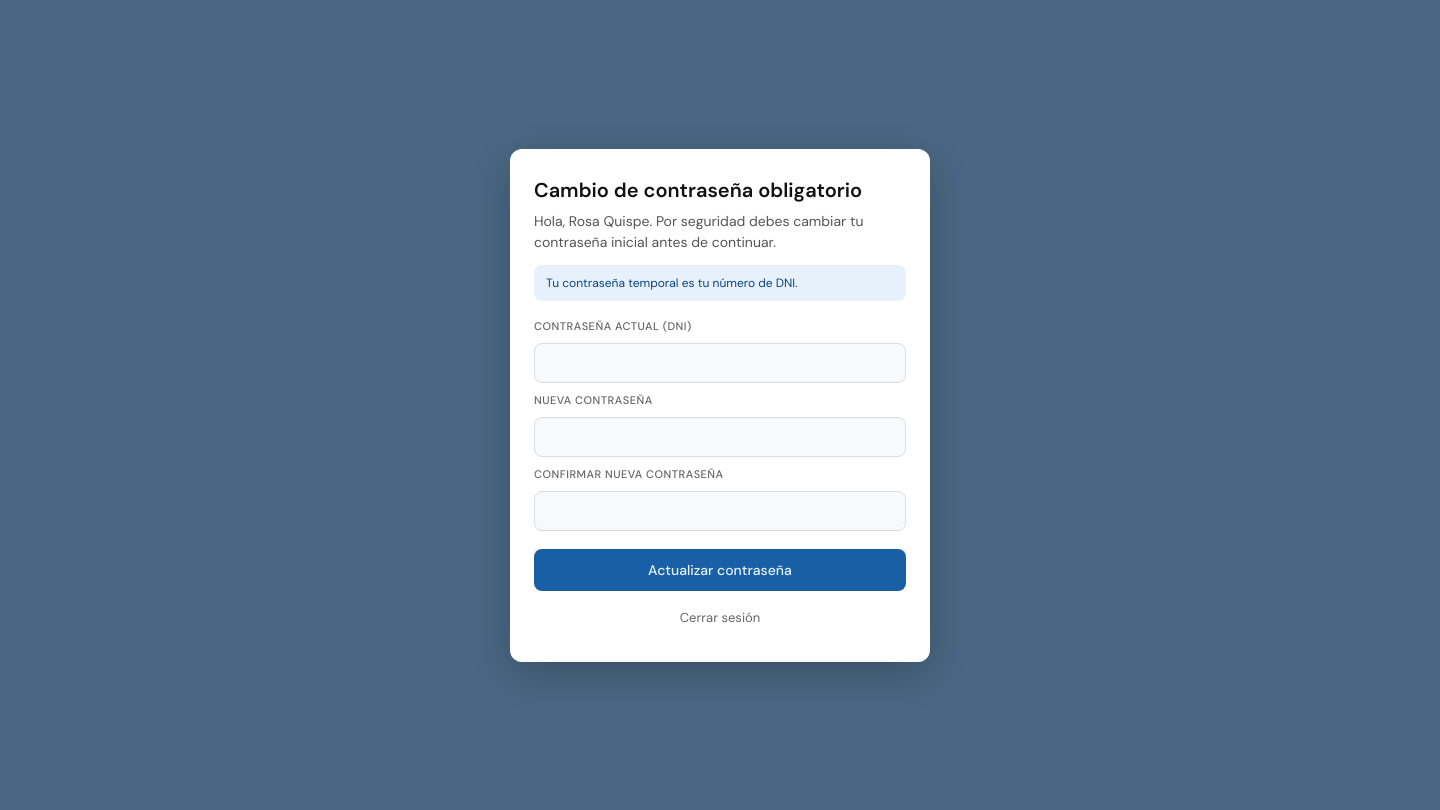
Test: CambioPasswordPrimerIngreso (RF01) › rechaza una nueva contraseña de menos de 8 caracteres
Type "12345678" into the 1st password field at (720, 362), box [534,342,906,382]
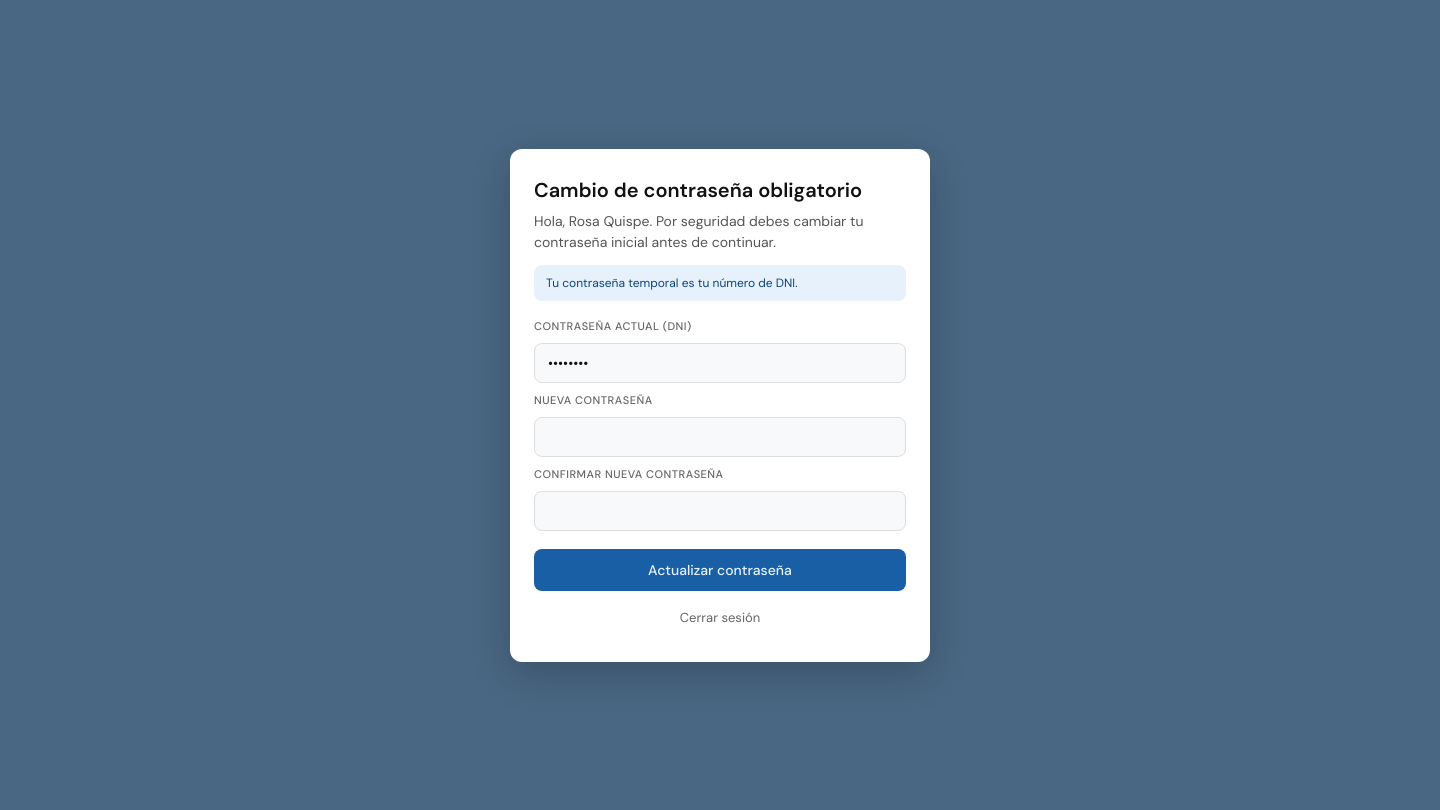
Type "corta" into the 2nd password field at (720, 436), box [534,416,906,456]
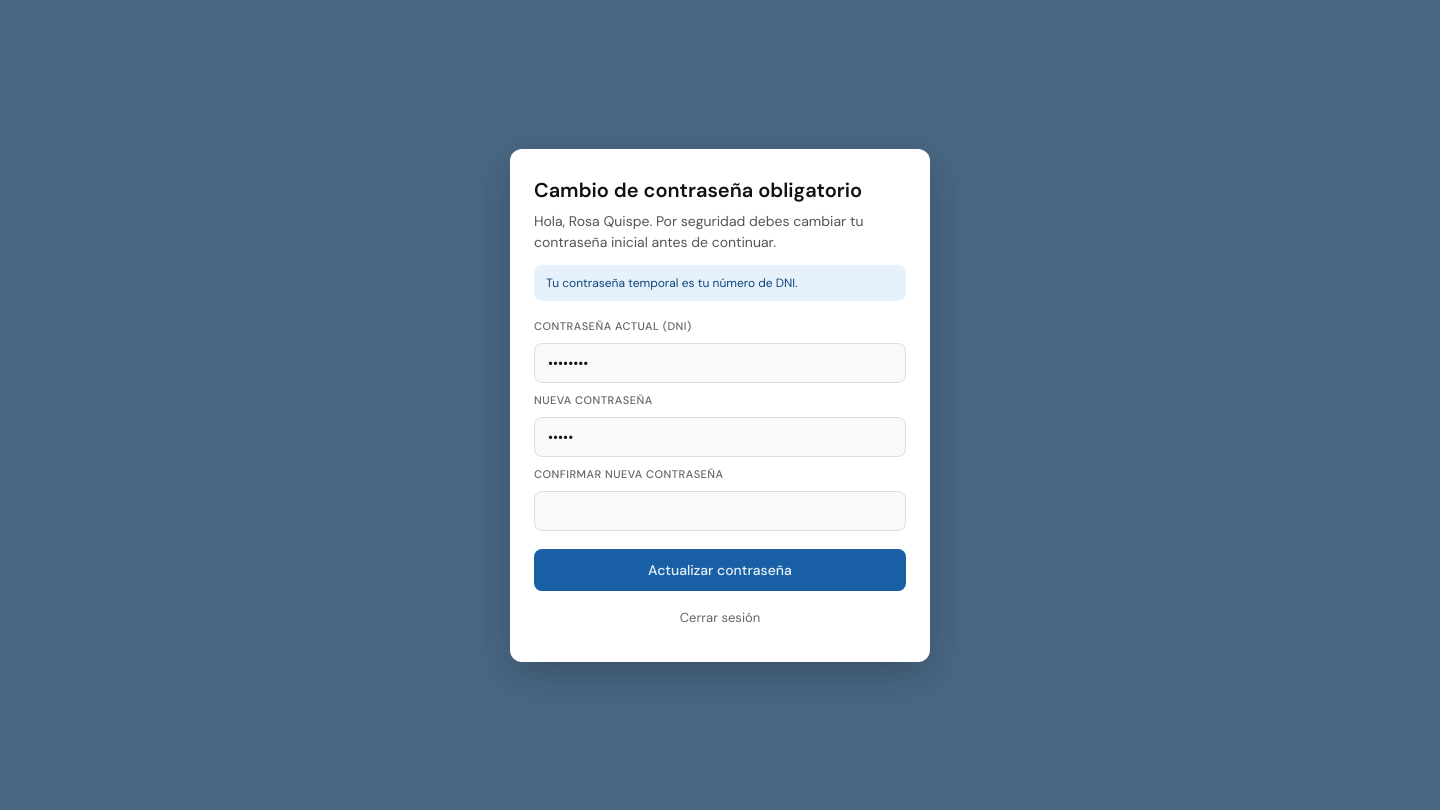
Type "corta" into the 3rd password field at (720, 510), box [534,490,906,530]
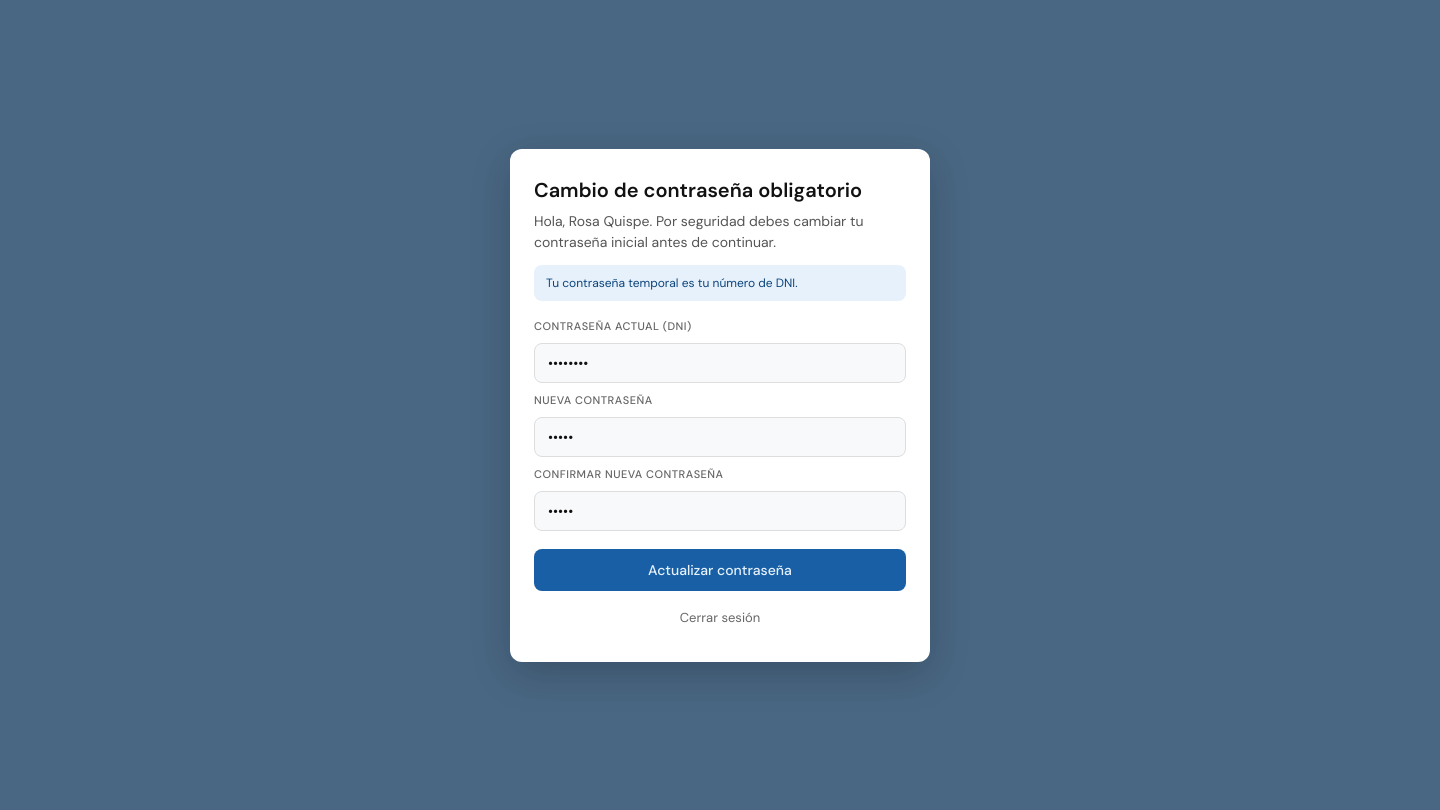
Click the button "Actualizar contraseña" at (720, 570), box [534,548,906,590]
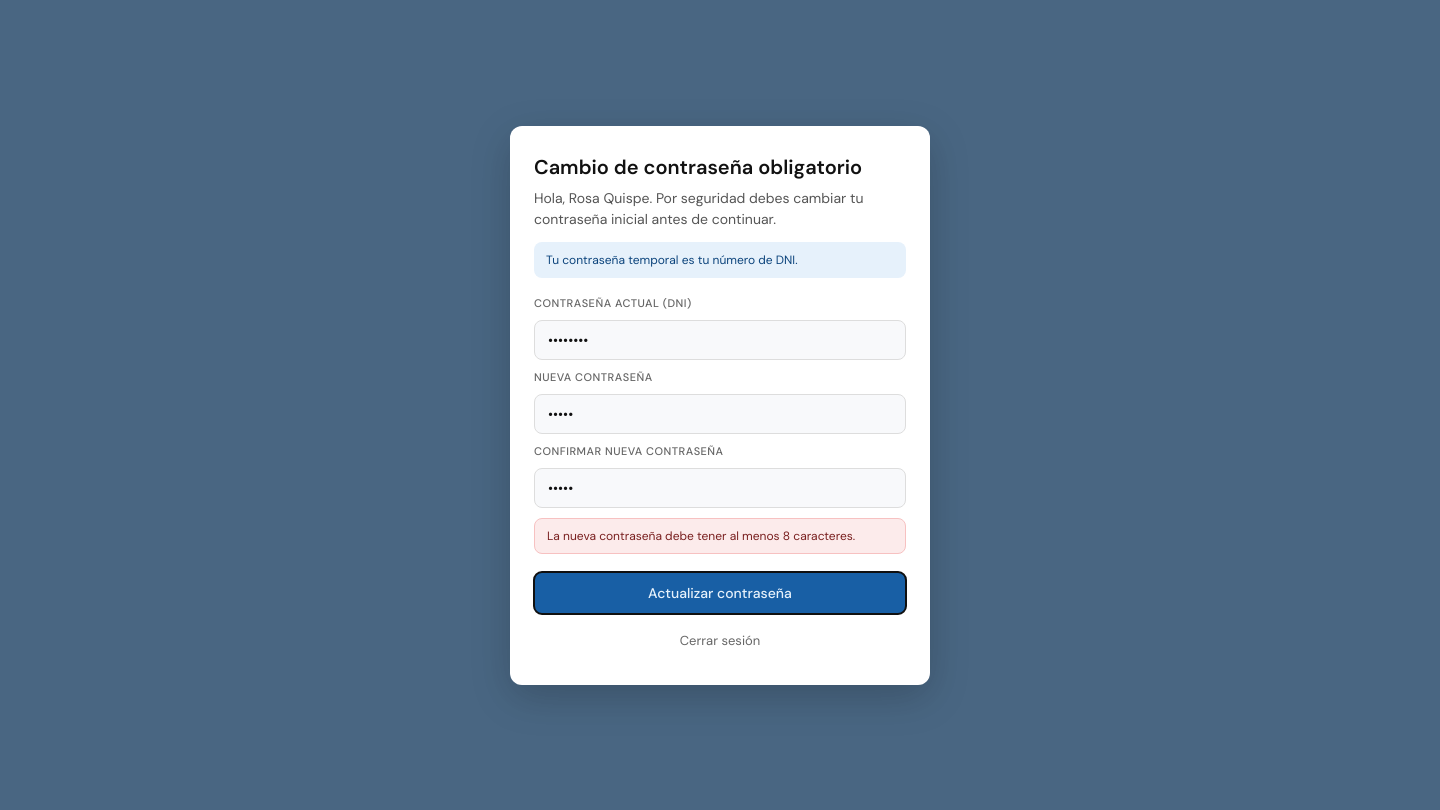
Expected: the text "La nueva contraseña debe tener al menos 8 caracteres." is shown, [547,528,855,544]
